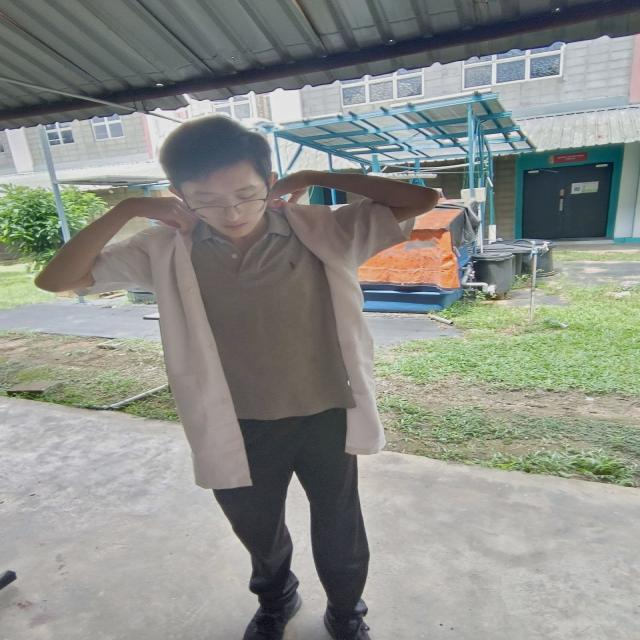person_without_labcoat: (38, 116, 437, 640)
